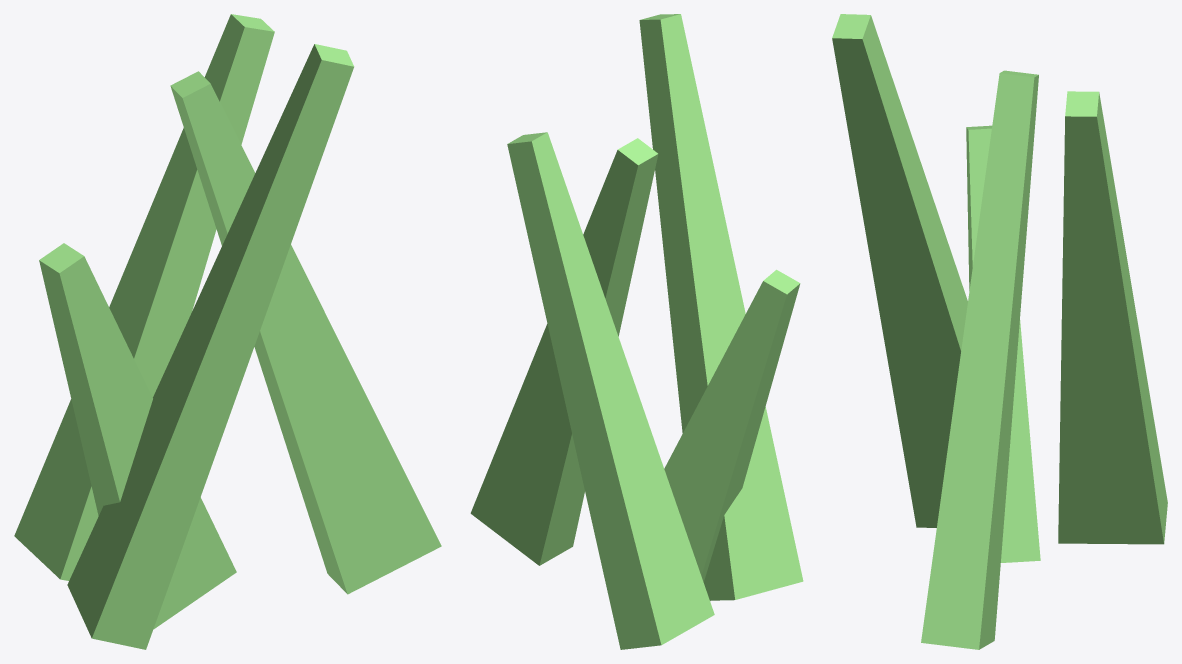
File: grass_tuft.glb
3 renders of one model, left to right at view 1: azimuth 30°, elevation 25°; view 2: azimuth 150°, elevation 25°; view 3: azimuth 270°, elevation 25°, orthographic. The views are drawn at different scales.
Visible parts, largest first — view 1: grass_tuft; view 2: grass_tuft; view 3: grass_tuft.
Part boxes in pixels (x1,y1,x2,y2): grass_tuft: (14,14,441,649); grass_tuft: (470,14,803,649); grass_tuft: (832,14,1167,649).
Bounding box in the file's own units: 0.3601 × 0.5536 × 0.2843.
